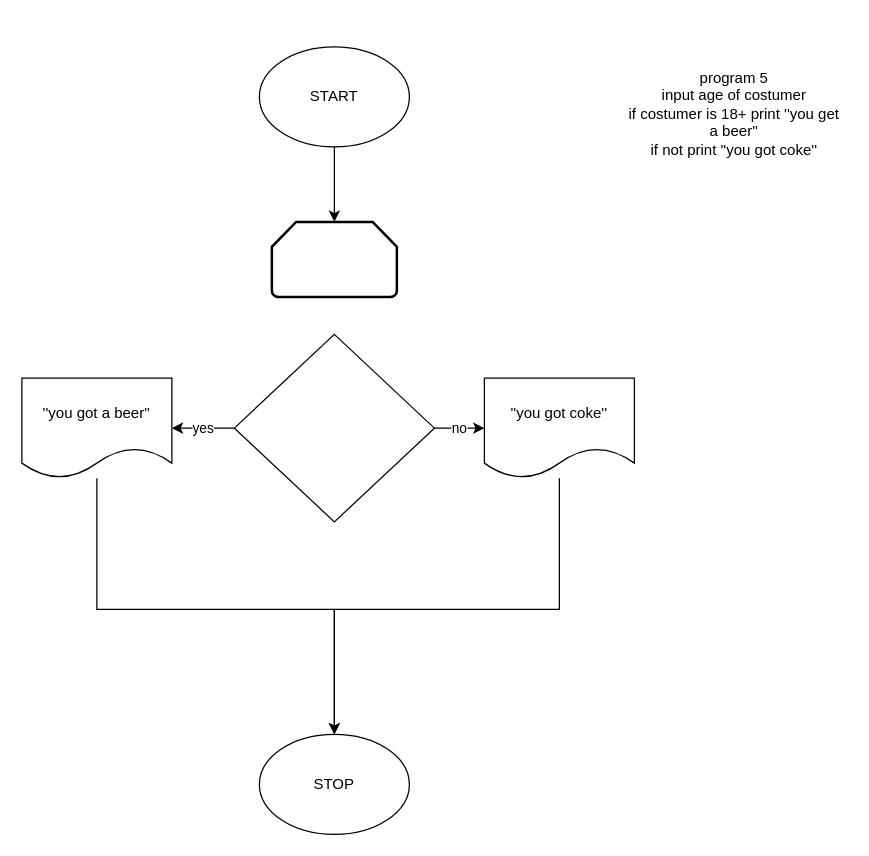
Image size: 869x856. Some labels were removed from this diagram. Here are the shapes that lost their labels. From the top down, the centre of each, then its label:
(334,259): costumer_age
(333,427): if costumer age >=18
